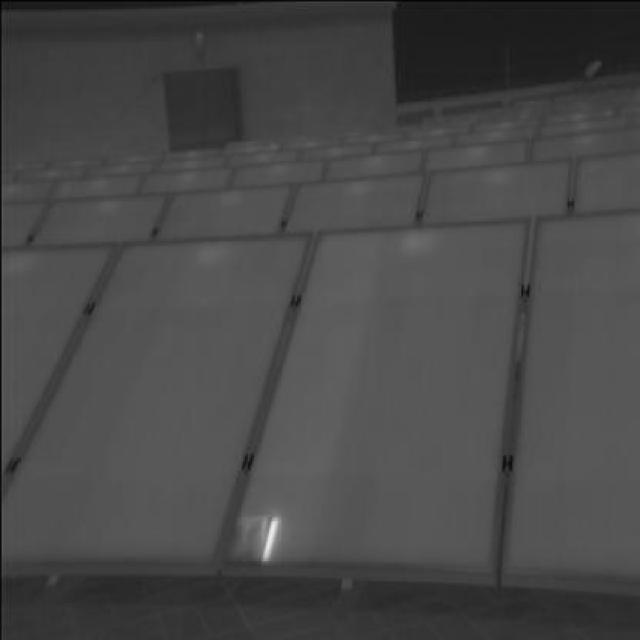hotspot: (232, 508, 282, 560)
